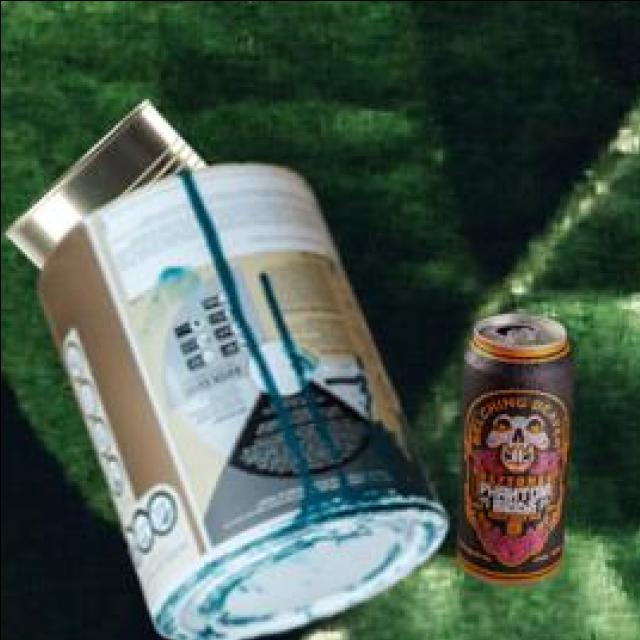logam: (35, 159, 443, 639), (1, 97, 204, 264), (453, 309, 570, 581)
